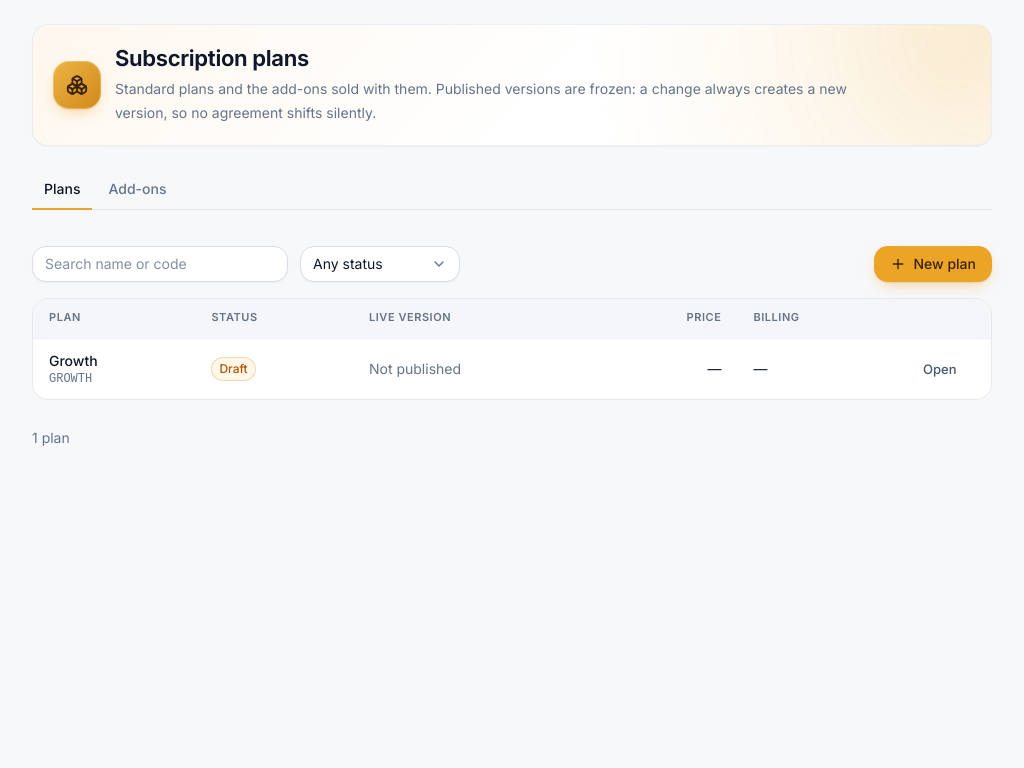
Scenario: Subscription plans screen › shows the server's validation message when a plan cannot be saved
Click the button "New plan".
click(933, 264)  # box [874, 246, 992, 282]
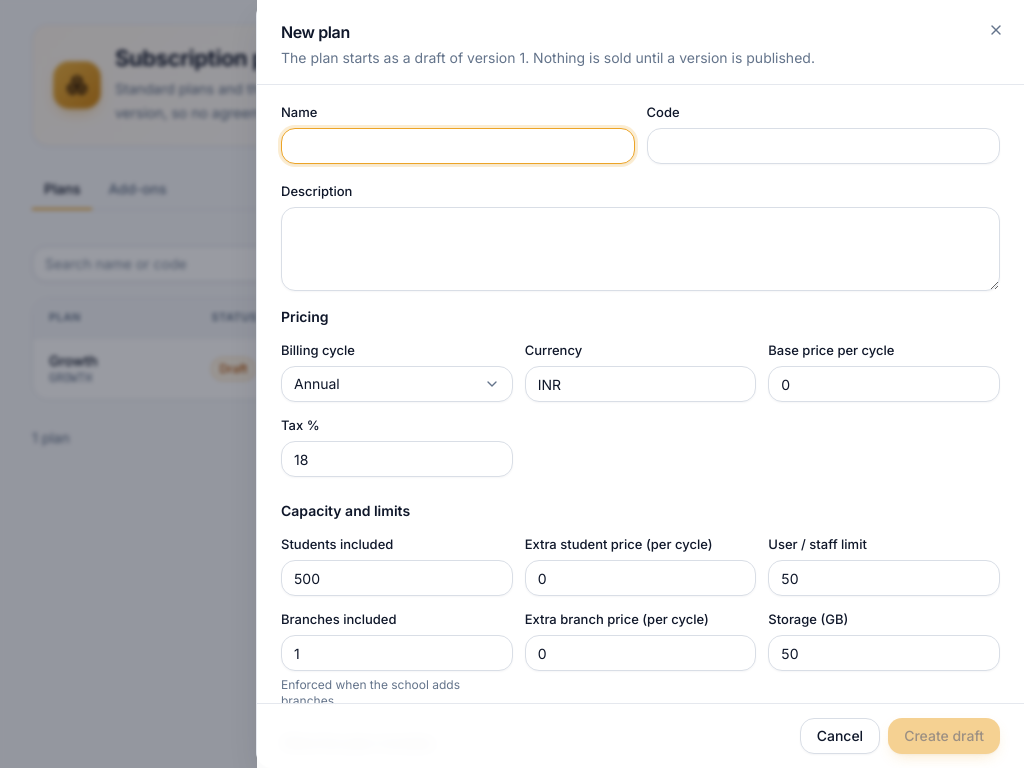
Type "Starter" into the field labelled "Name".
click(458, 146); type("Starter")  # box [281, 128, 634, 164]
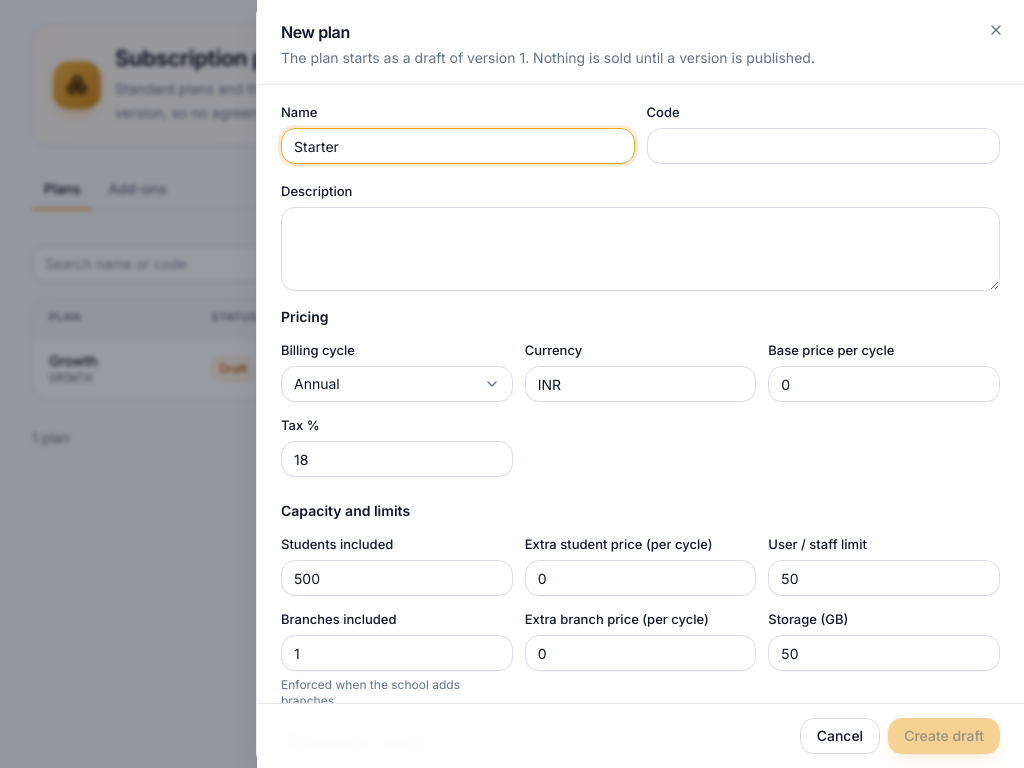
Type "starter" into the field labelled "Code".
click(823, 146); type("starter")  # box [646, 128, 1000, 164]
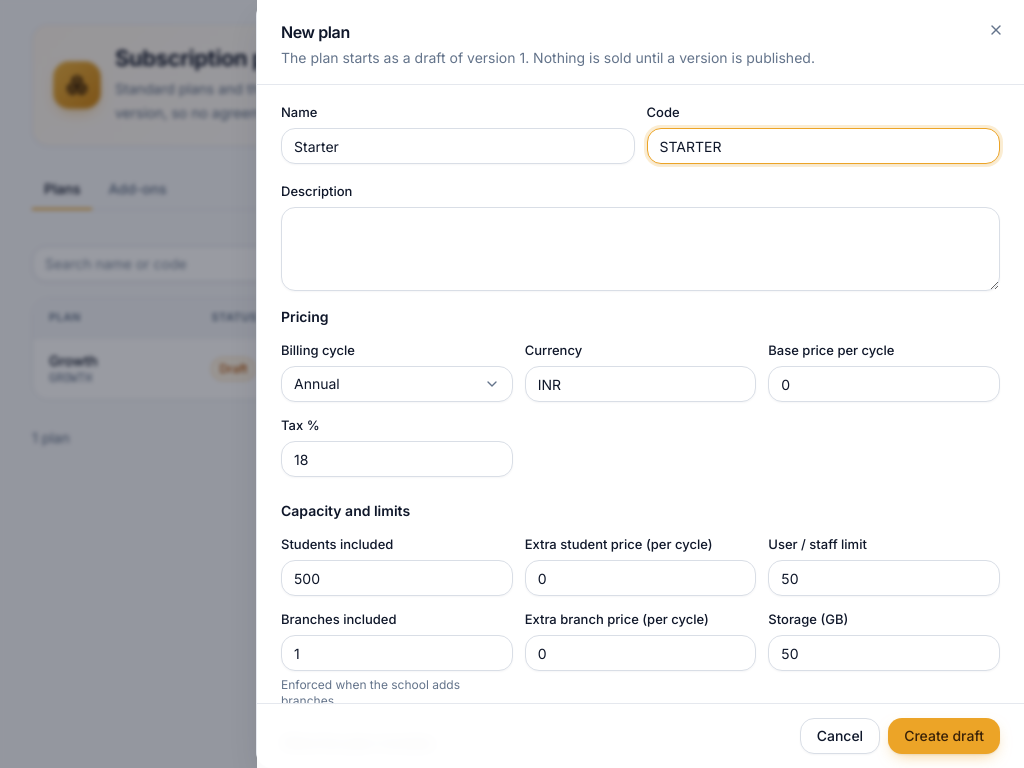
Click the button "Create draft".
click(944, 736)  # box [888, 718, 1000, 754]
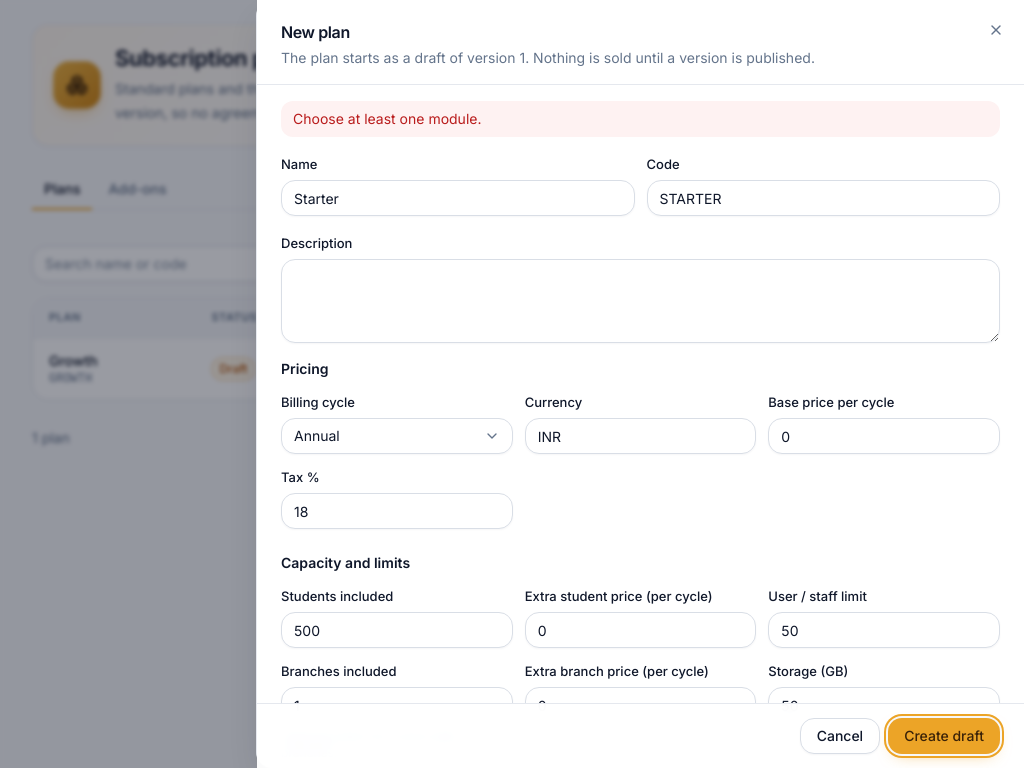
Expected: the message reads "Choose at least one module.", [293, 110, 482, 127]
